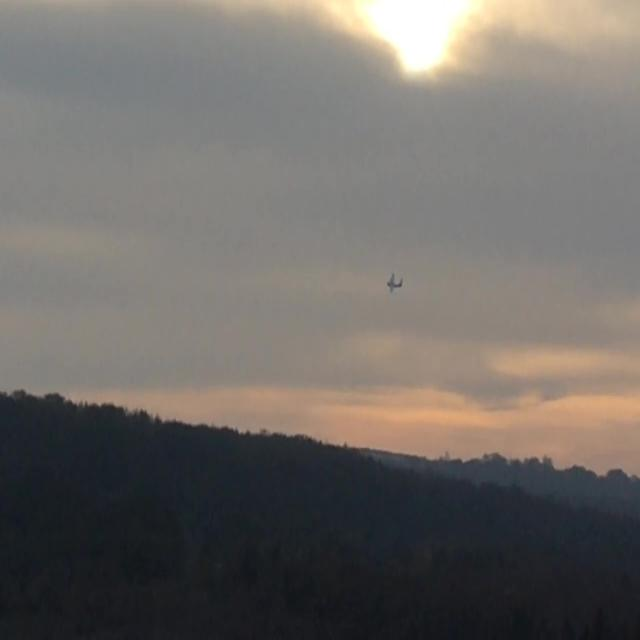iha: (379, 272, 397, 294)
